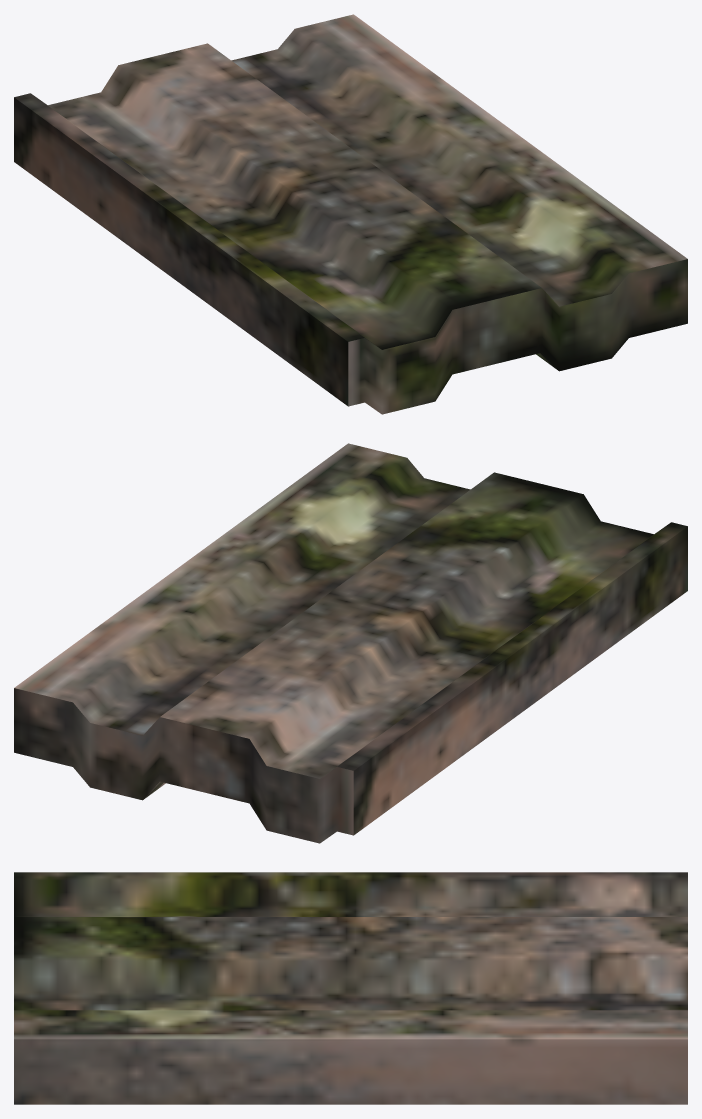
The model's file is SM_OldCeramicRoofTiles_01_15_tile.fbx.
The picture shows the model from 3 angles, top to bottom: view 1: azimuth 30°, elevation 25°; view 2: azimuth 150°, elevation 25°; view 3: azimuth 270°, elevation 25°; orthographic projection.
Visible parts, largest first — view 1: sm_OldCeramicRoofTiles_01_15_tile_LOD0; view 2: sm_OldCeramicRoofTiles_01_15_tile_LOD0; view 3: sm_OldCeramicRoofTiles_01_15_tile_LOD0.
Boxes of the visible parts, left/top/right/bottom form: sm_OldCeramicRoofTiles_01_15_tile_LOD0: left=14, top=14, right=687, bottom=414; sm_OldCeramicRoofTiles_01_15_tile_LOD0: left=14, top=443, right=687, bottom=843; sm_OldCeramicRoofTiles_01_15_tile_LOD0: left=14, top=872, right=687, bottom=1104.
Bounding box in the file's own units: 60.27 × 35.37 × 8.71.
